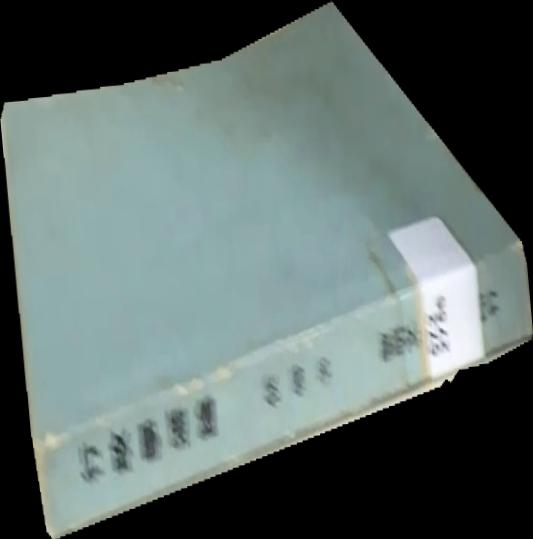flat: (1, 1, 533, 539)
